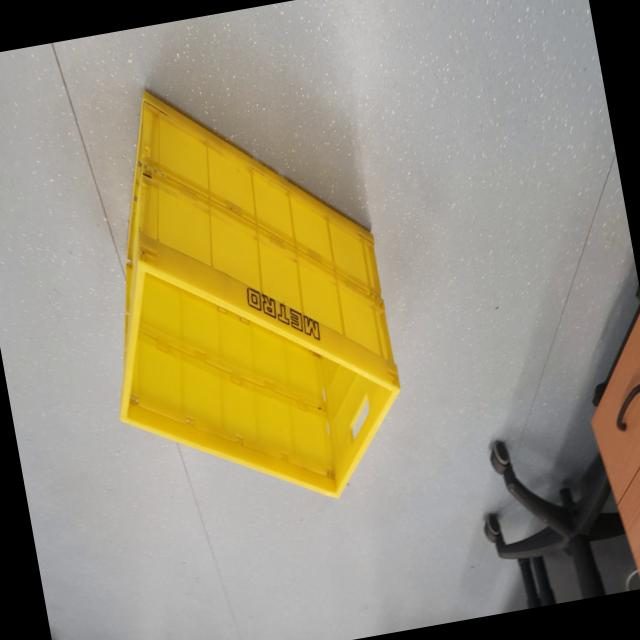box: (58, 41, 436, 556)
